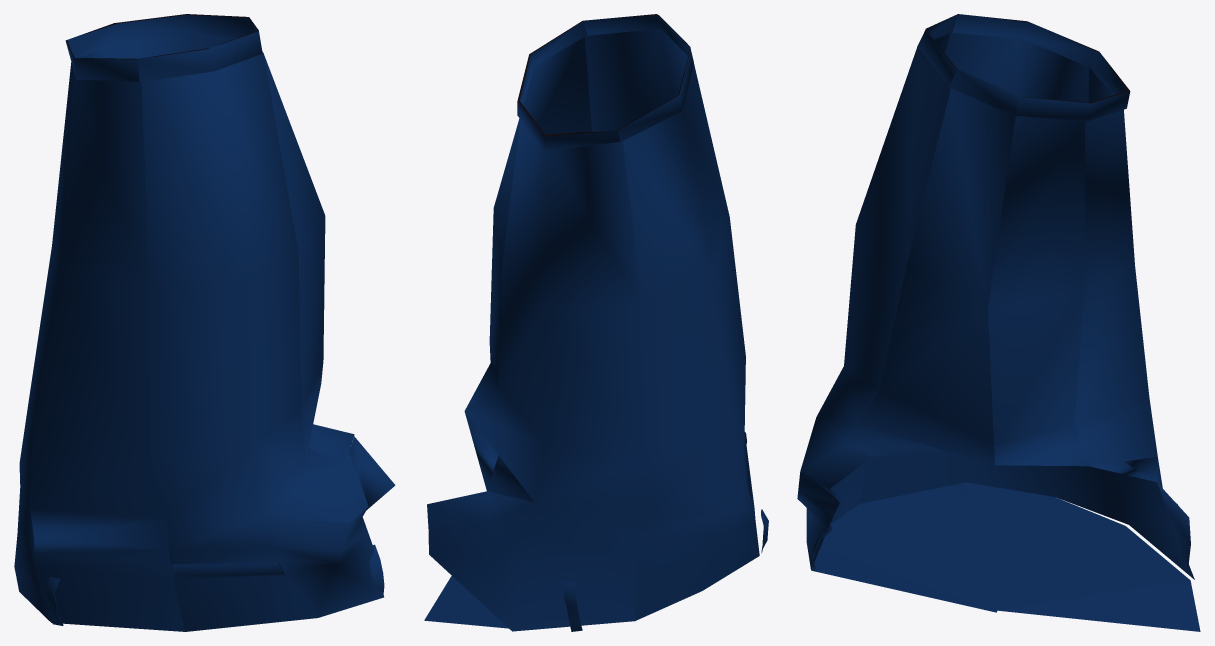
File: left_up_leg.glb
3 views of the same model, side by side, from view 1: azimuth 30°, elevation 25°; view 2: azimuth 150°, elevation 25°; view 3: azimuth 270°, elevation 25° (orthographic). The views are drawn at different scales.
Parts seen in each view (by area): view 1: shorts-navy_LEFT_UP_LEG; view 2: shorts-navy_LEFT_UP_LEG; view 3: shorts-navy_LEFT_UP_LEG.
Part boxes in pixels (x1,y1,x2,y2): shorts-navy_LEFT_UP_LEG: (14,14,395,631); shorts-navy_LEFT_UP_LEG: (424,14,768,631); shorts-navy_LEFT_UP_LEG: (797,14,1200,631).
Size of the model in its own units: 0.257 by 0.5014 by 0.3317.
1 material, 1 textured.
